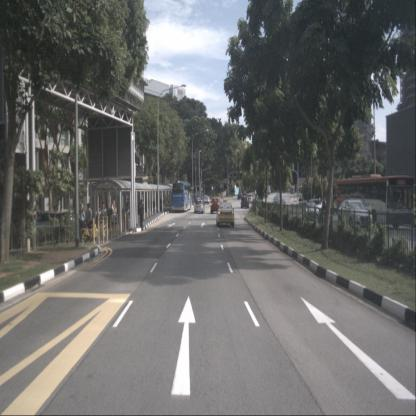human-pedestrian-adult: (78, 204, 86, 241), (86, 203, 92, 240), (100, 202, 106, 234), (111, 199, 117, 230), (139, 195, 144, 227), (126, 197, 130, 223)
vehicle-bus-rigid: (337, 174, 414, 228), (171, 182, 192, 212)
vehicle-car: (26, 210, 74, 246), (338, 199, 373, 231), (216, 202, 235, 227), (301, 200, 320, 221), (308, 199, 326, 216), (210, 197, 221, 213), (194, 199, 205, 214), (277, 198, 286, 210), (298, 193, 310, 202), (241, 196, 249, 209), (274, 195, 282, 207), (246, 193, 253, 204), (202, 195, 210, 204), (237, 192, 243, 200), (290, 186, 295, 194)
vehicle-motorcycle: (318, 200, 329, 228)
vehicle-truck: (266, 185, 271, 195)
